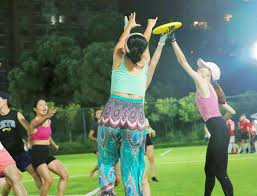disc: (151, 22, 184, 35)
